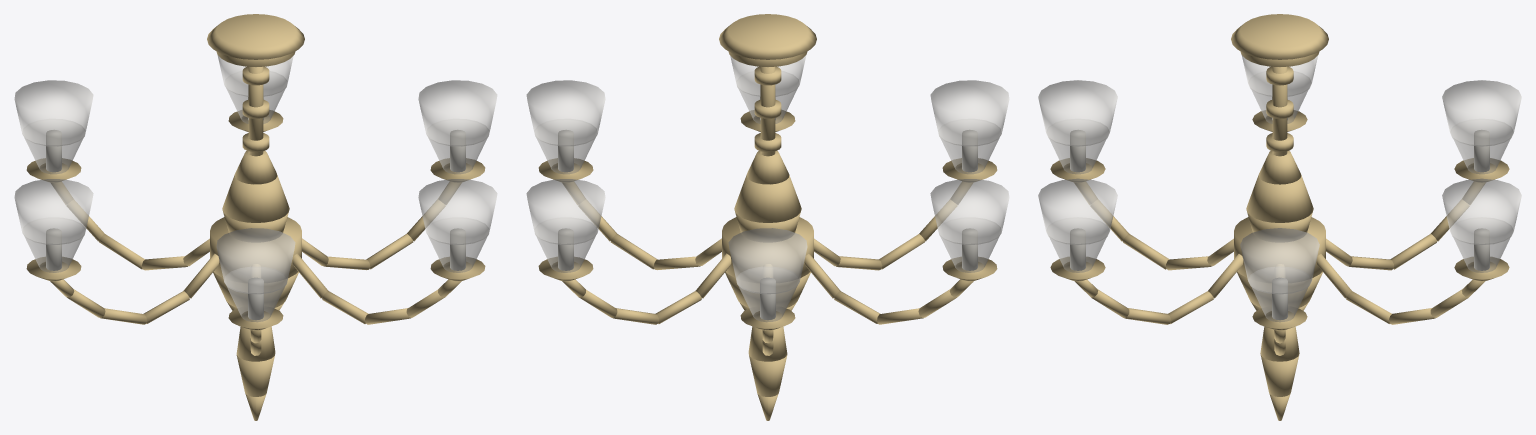
File: SM_Light_Chandelier_01.glb
3 views of the same model, side by side, from view 1: azimuth 30°, elevation 25°; view 2: azimuth 150°, elevation 25°; view 3: azimuth 270°, elevation 25° (orthographic).
Visible parts, largest first — view 1: SM_Light_Chandelier_01; view 2: SM_Light_Chandelier_01; view 3: SM_Light_Chandelier_01.
Part boxes in pixels (x1,y1,x2,y2): SM_Light_Chandelier_01: (14, 14, 497, 420); SM_Light_Chandelier_01: (526, 14, 1009, 420); SM_Light_Chandelier_01: (1038, 14, 1521, 420).
Bounding box in the file's own units: 0.89 × 0.7 × 0.7882.
